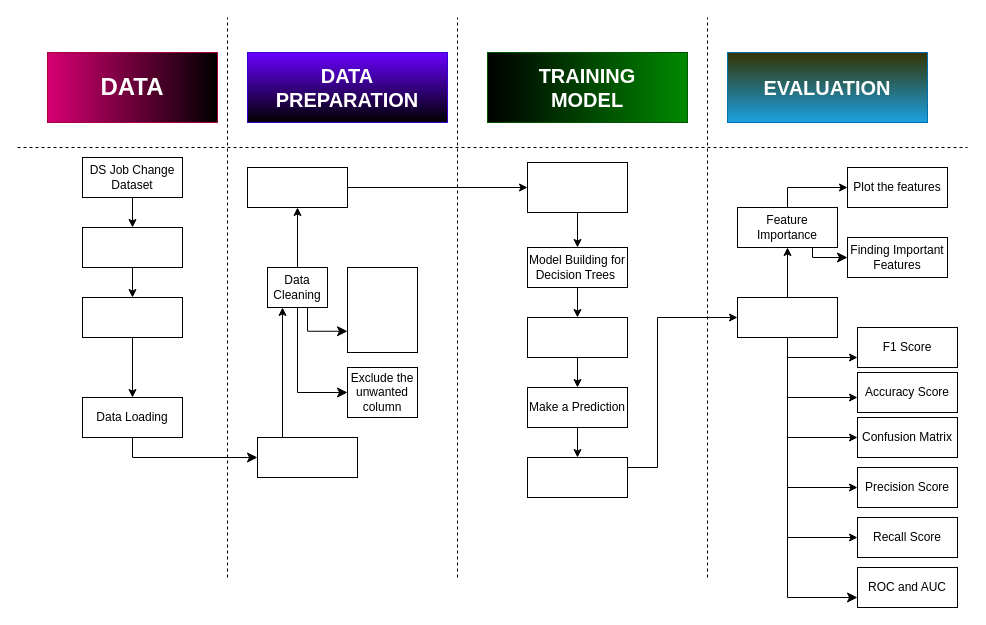
Image size: 986x625. Some labels were removed from this diagram. Each missing label, with the box of its shape:
Checking for missing values and handled them: (346, 266, 418, 352)
Cleaned Data: (246, 166, 348, 208)
Fit and Train model: (526, 316, 628, 358)
Import Required Libraries: (82, 226, 182, 268)
Inspection and cleaning Data: (256, 436, 358, 478)
Model Validation: (736, 296, 838, 338)
Perform Train-Test Split: (526, 162, 628, 212)
Plot the model: (526, 456, 628, 498)
Read Dataset: (82, 296, 182, 338)
